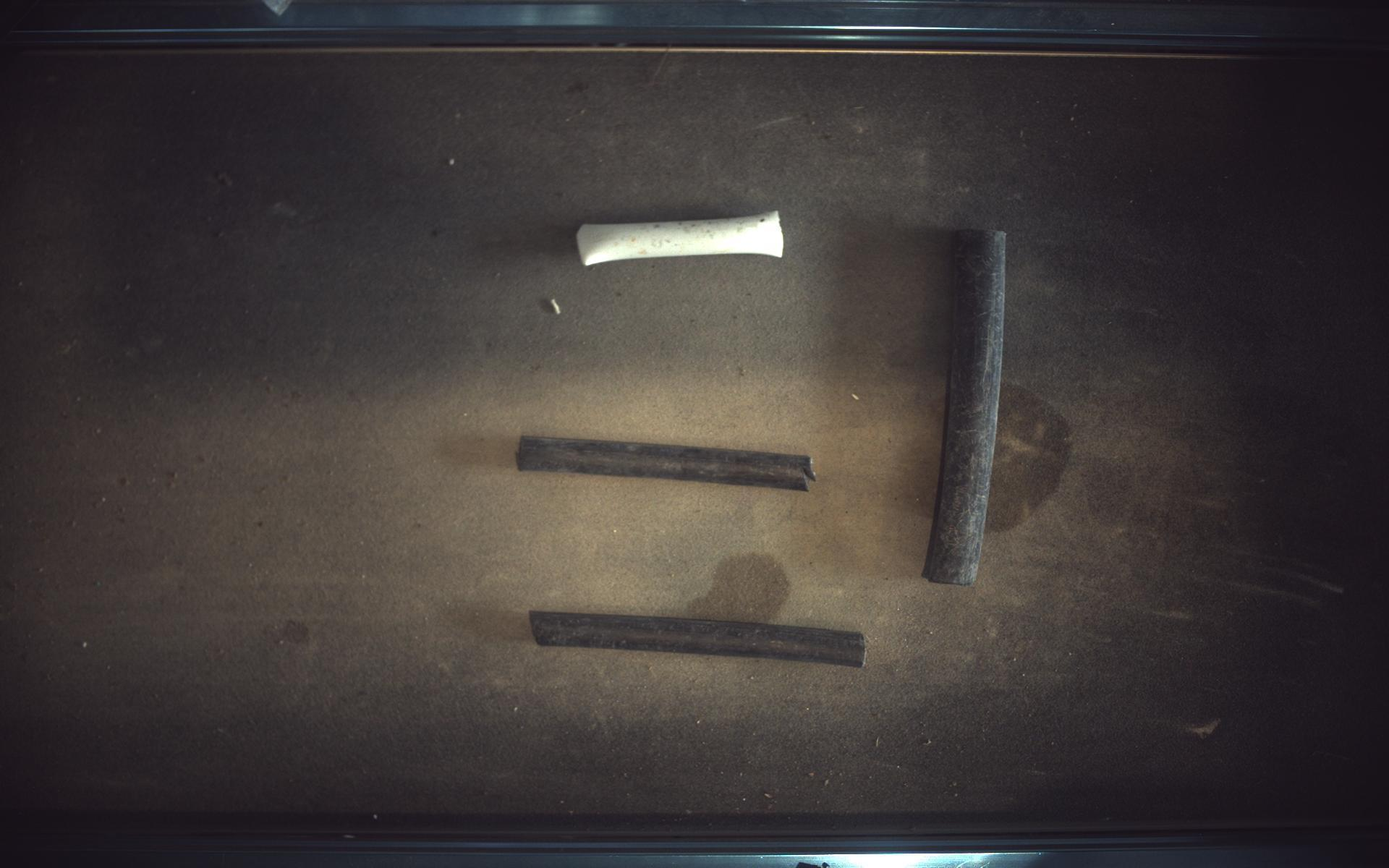pipes: (925, 229, 1008, 586), (530, 611, 867, 668), (517, 436, 817, 492), (577, 210, 785, 265)
